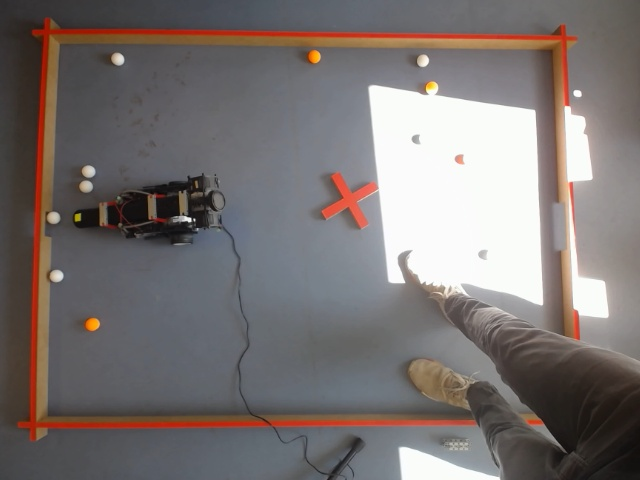orange: (82, 316, 103, 334), (306, 49, 322, 66), (423, 80, 439, 96)
robot: (96, 172, 225, 245)
white: (47, 268, 66, 284), (109, 51, 125, 68), (415, 53, 430, 69), (45, 210, 61, 225), (80, 164, 96, 179), (78, 179, 94, 194), (571, 88, 583, 99), (73, 211, 81, 223)
